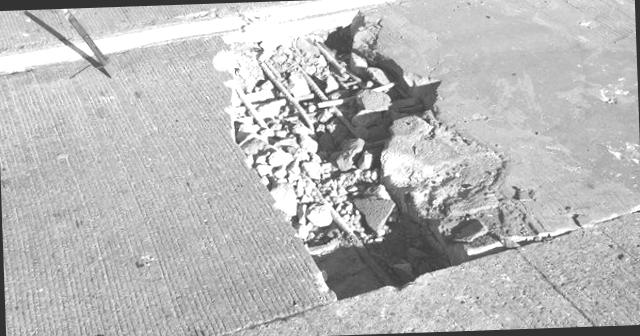Pothole: (170, 3, 561, 298)
